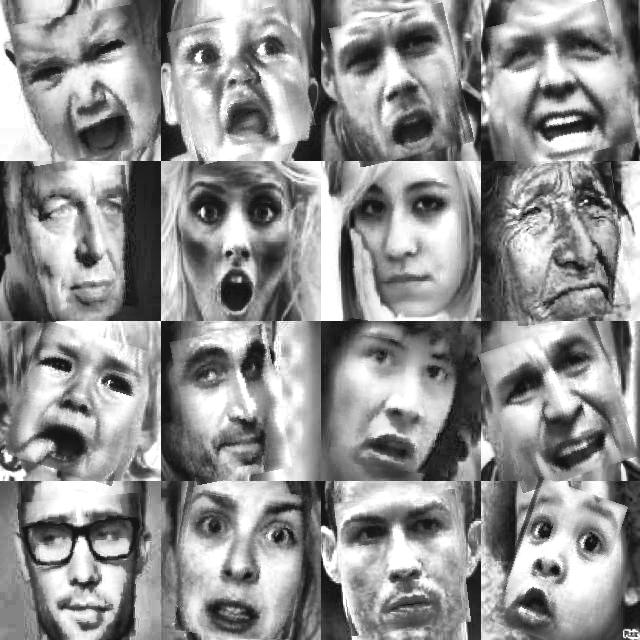angry: (338, 493, 468, 633)
fear: (169, 481, 307, 640), (174, 10, 311, 159), (336, 7, 467, 162), (333, 322, 462, 474), (501, 481, 617, 640), (181, 168, 290, 317)
happy: (491, 5, 631, 163)
neutral: (176, 328, 286, 482)
sad: (488, 324, 630, 486), (14, 8, 154, 161), (10, 326, 144, 480), (503, 165, 627, 322), (20, 494, 148, 640), (25, 167, 137, 321), (346, 171, 466, 307)
